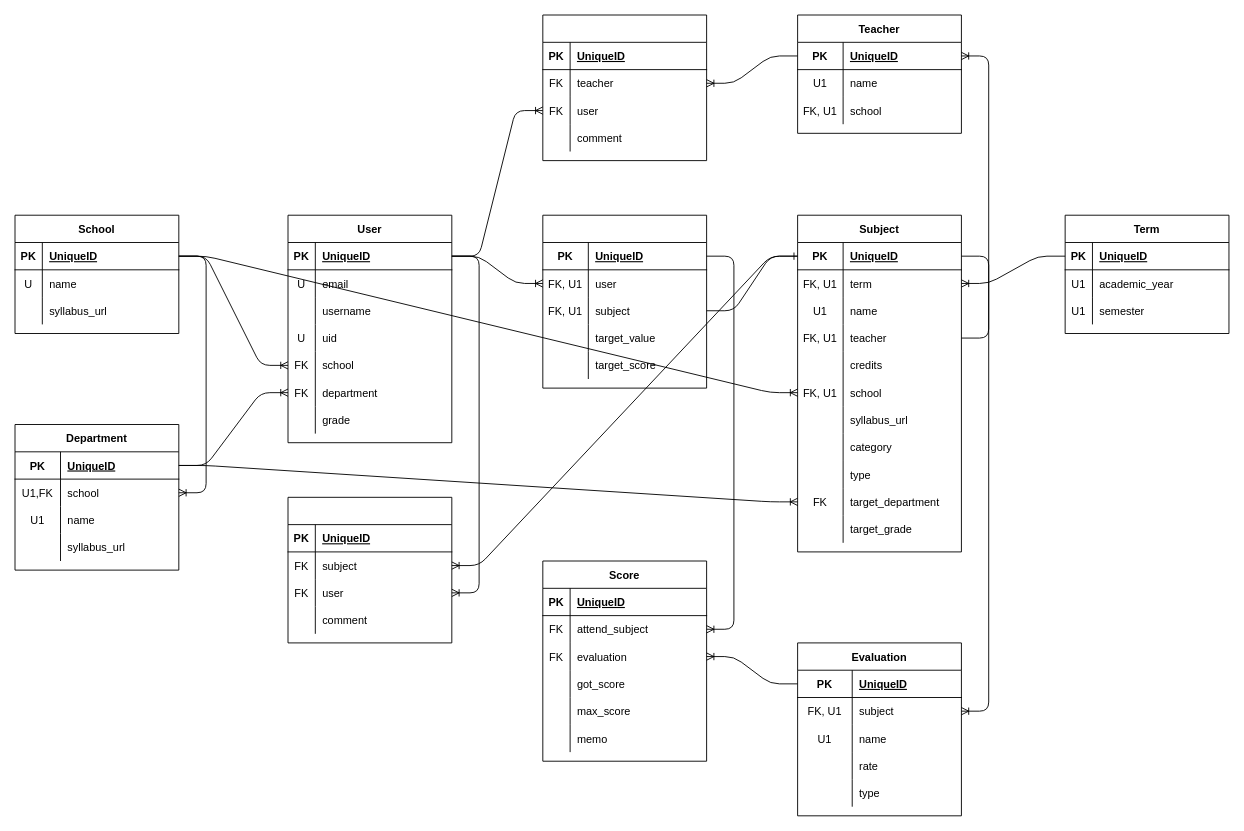
This 1244x831 diagram has some shape labels left out. The box of each missing label's shape, as (x1, y1, x2, y2) in pixels:
AttendSbuject: (542, 214, 707, 388)
SubjectComment: (287, 496, 452, 643)
TeacherComment: (542, 14, 707, 161)
